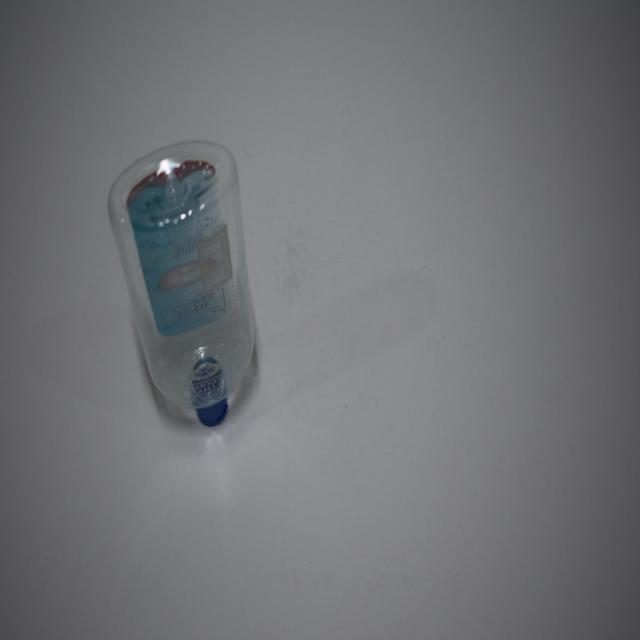bottle: (105, 154, 259, 414)
